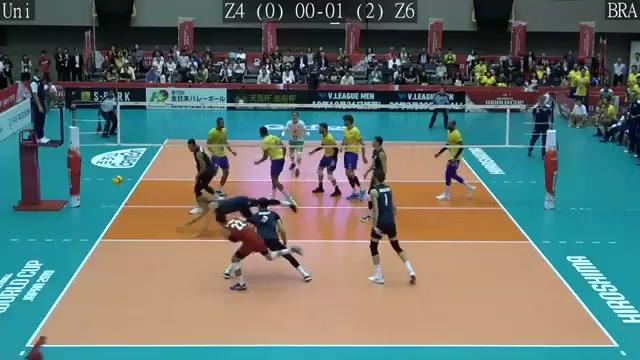ball: (109, 171, 125, 188)
